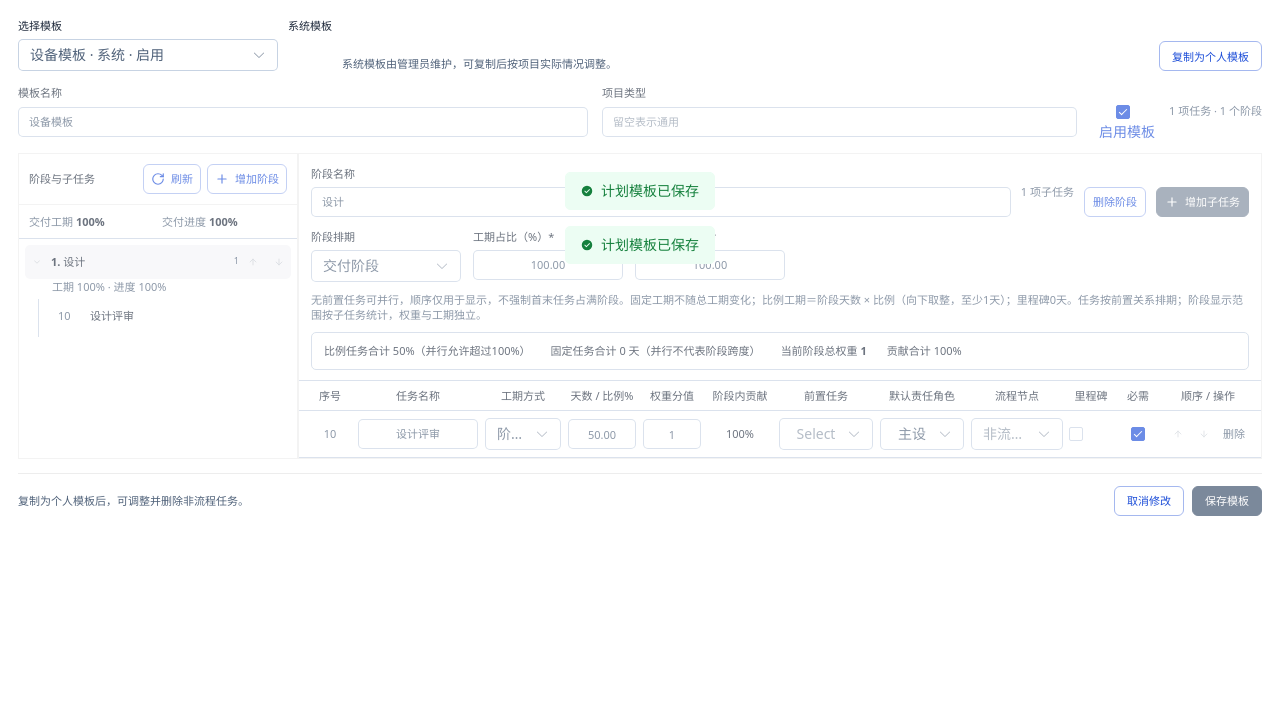
Test: 设置页项目计划模板 › 项目经理只读查看系统模板，可复制为个人模板后编辑
expect the element that starts with "模板名称" is disabled: met, box [18,85,1262,459]
Click the button "复制为个人模板".
click(1210, 56)  # box [1159,41,1262,71]
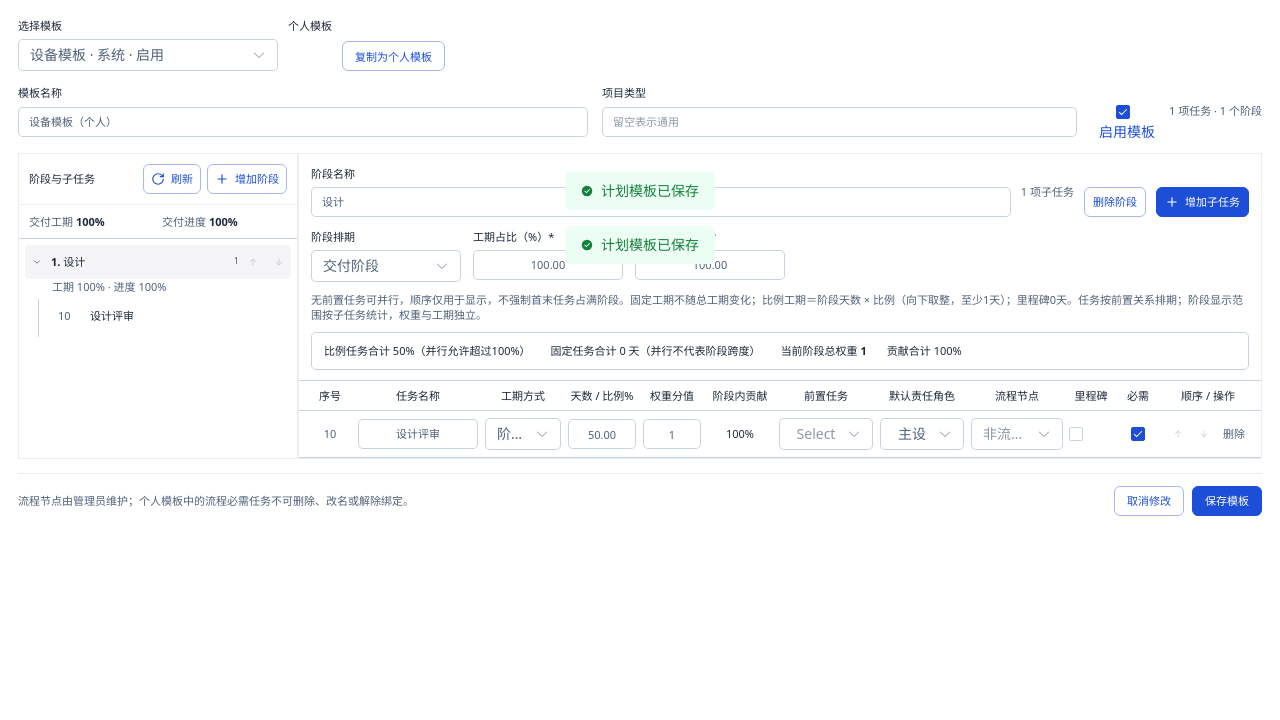
expect the text "个人模板" is shown: met, box [288,18,332,33]
expect the element that starts with "模板名称" is enabled: met, box [18,85,1262,459]
